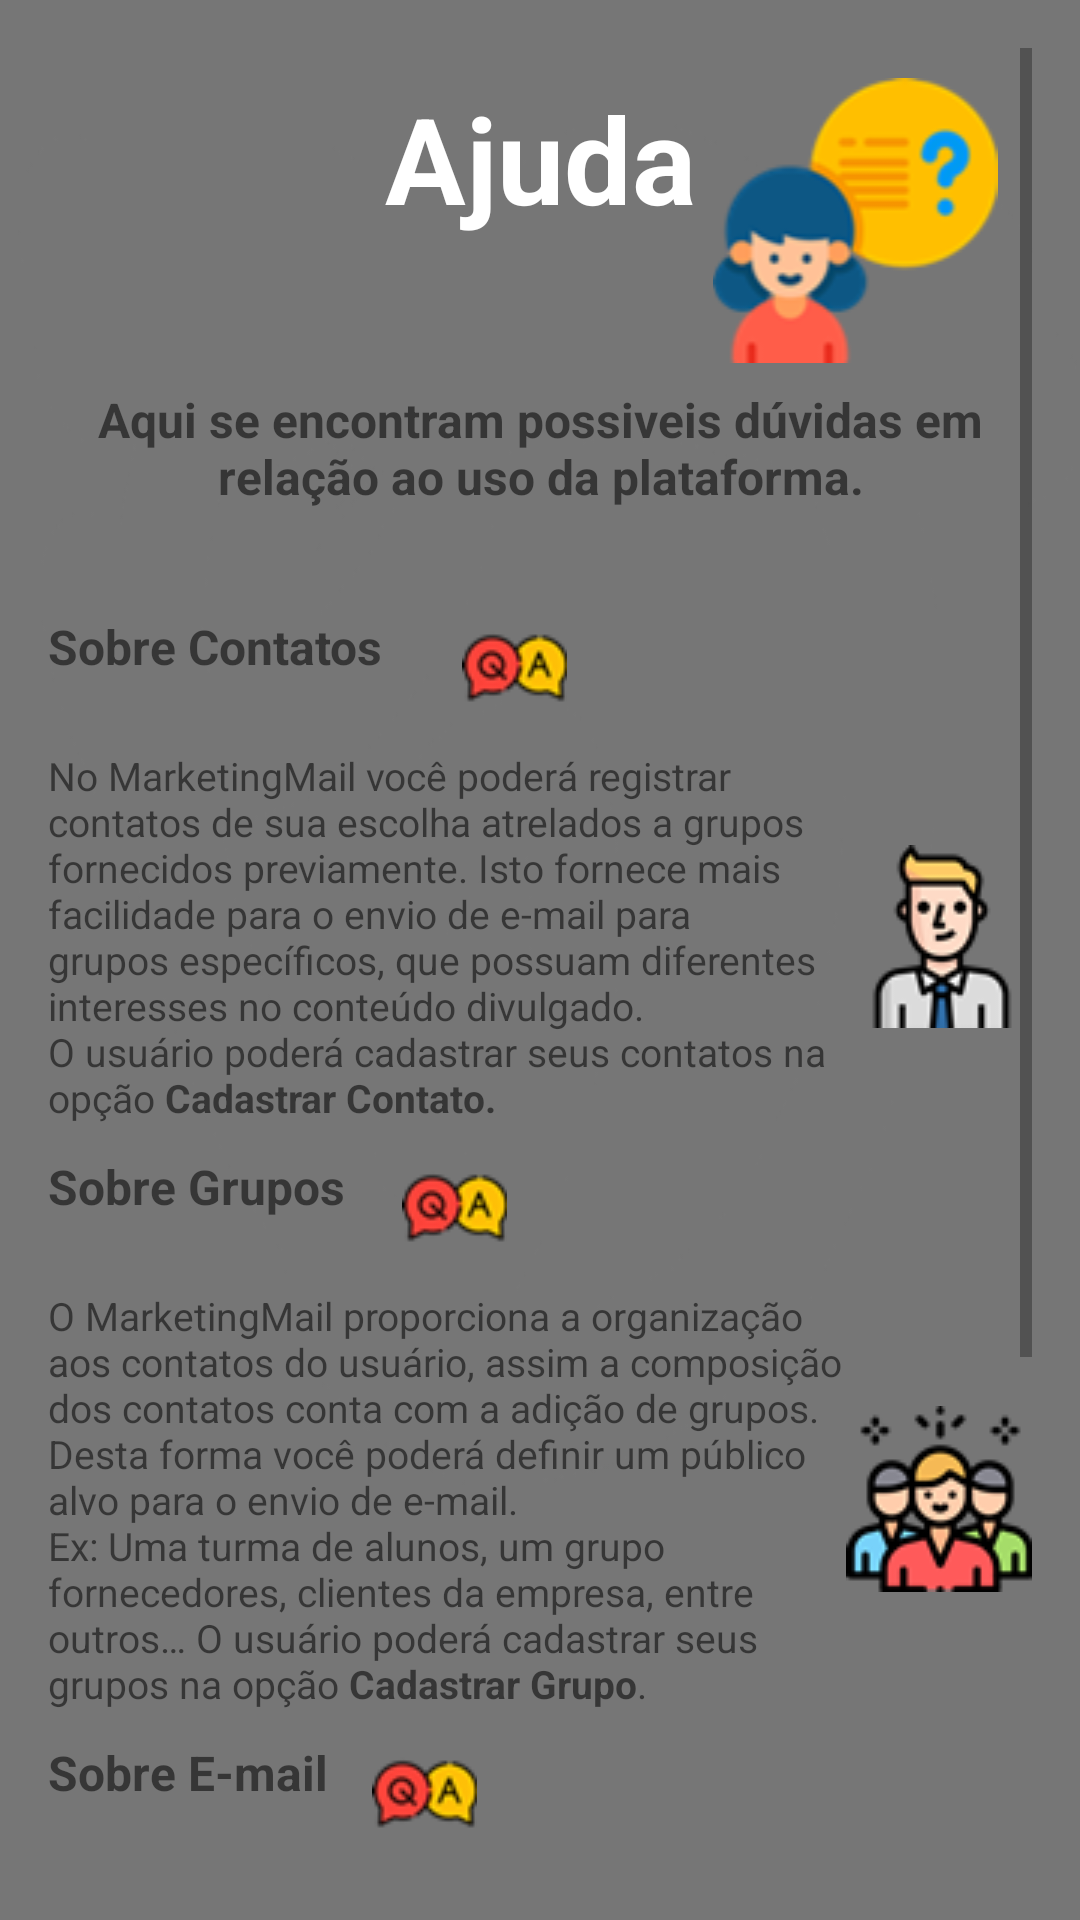

Where icons sit on this 1080*1920 app screen, as {"left": x1, "top": y1, "right": x2, "bottom": y2}:
question: {"left": 713, "top": 78, "right": 998, "bottom": 363}
